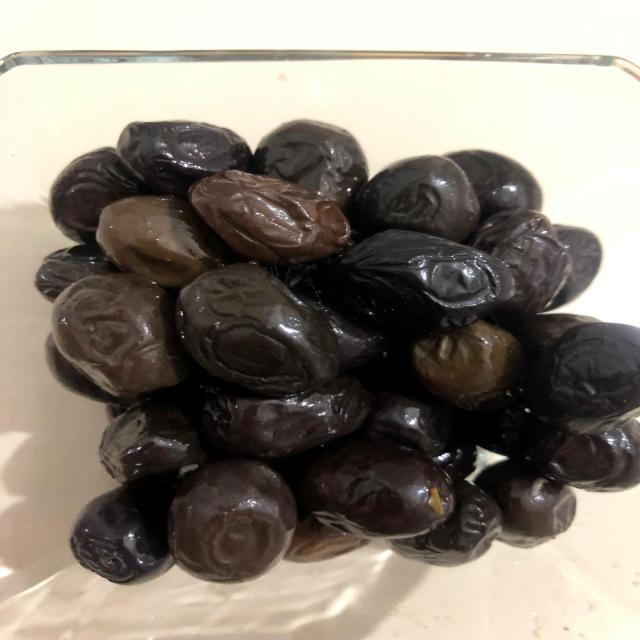olive: (40, 109, 640, 587), (168, 252, 352, 403), (144, 444, 317, 585), (326, 221, 518, 339), (43, 263, 193, 400), (184, 155, 361, 268)
